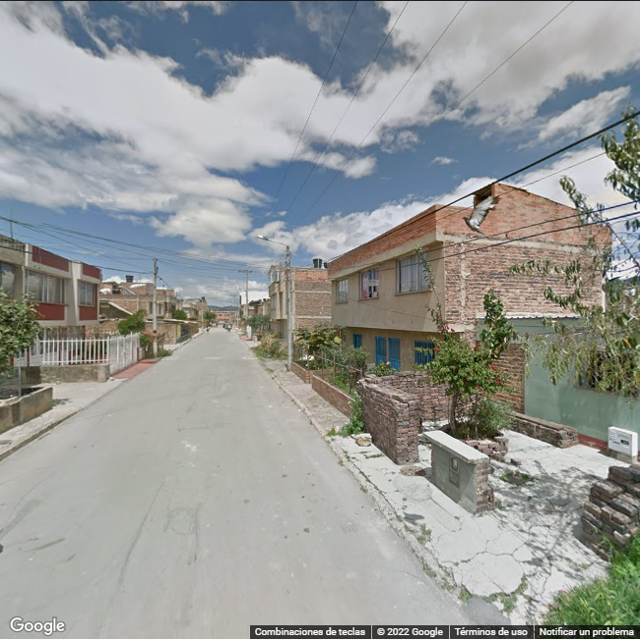D00: (188, 498, 210, 560), (403, 568, 444, 597), (163, 495, 168, 541)
